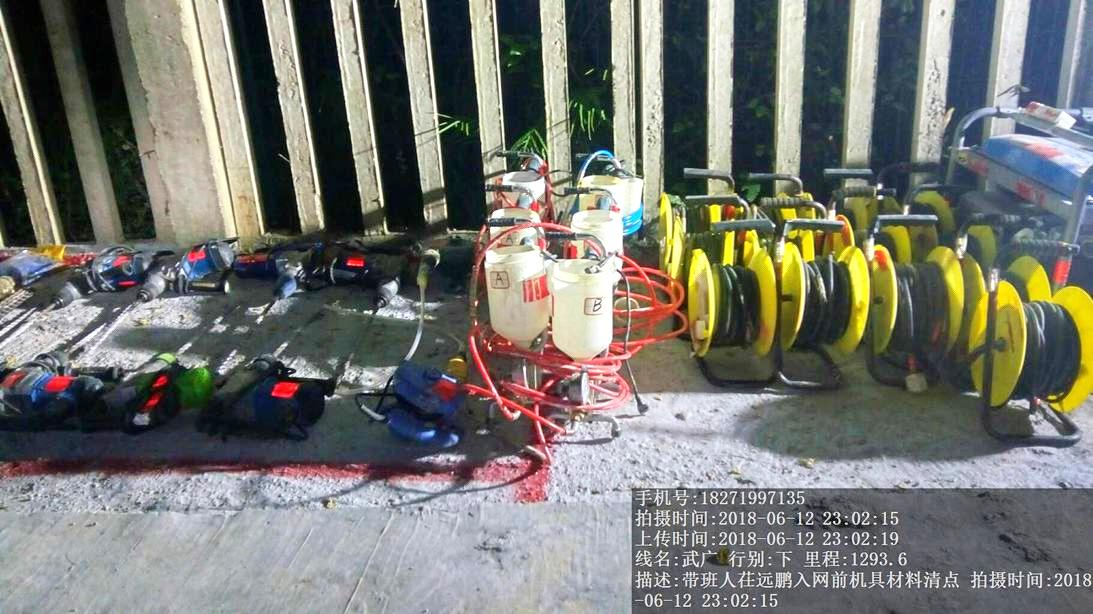DX: (972, 257, 1093, 457), (672, 230, 783, 393), (778, 221, 874, 388)
DZ: (21, 298, 133, 440), (212, 343, 339, 441), (314, 232, 400, 340), (227, 236, 313, 327), (126, 355, 230, 430), (131, 246, 229, 314)
